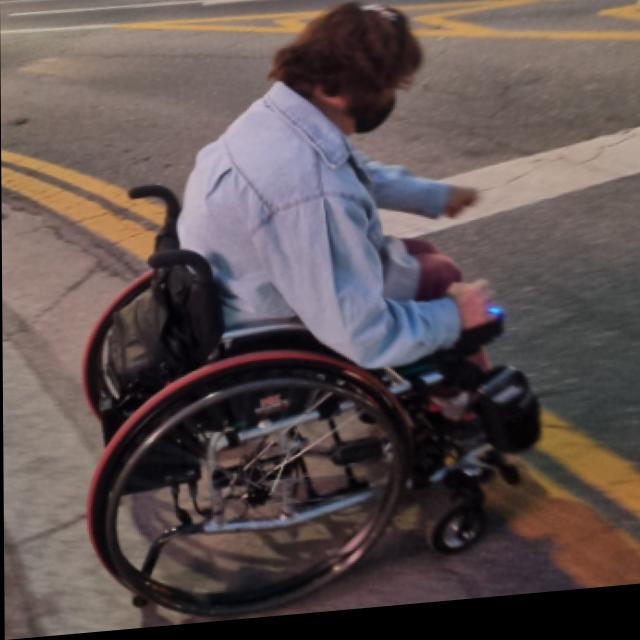wheelchair: (83, 0, 543, 626)
